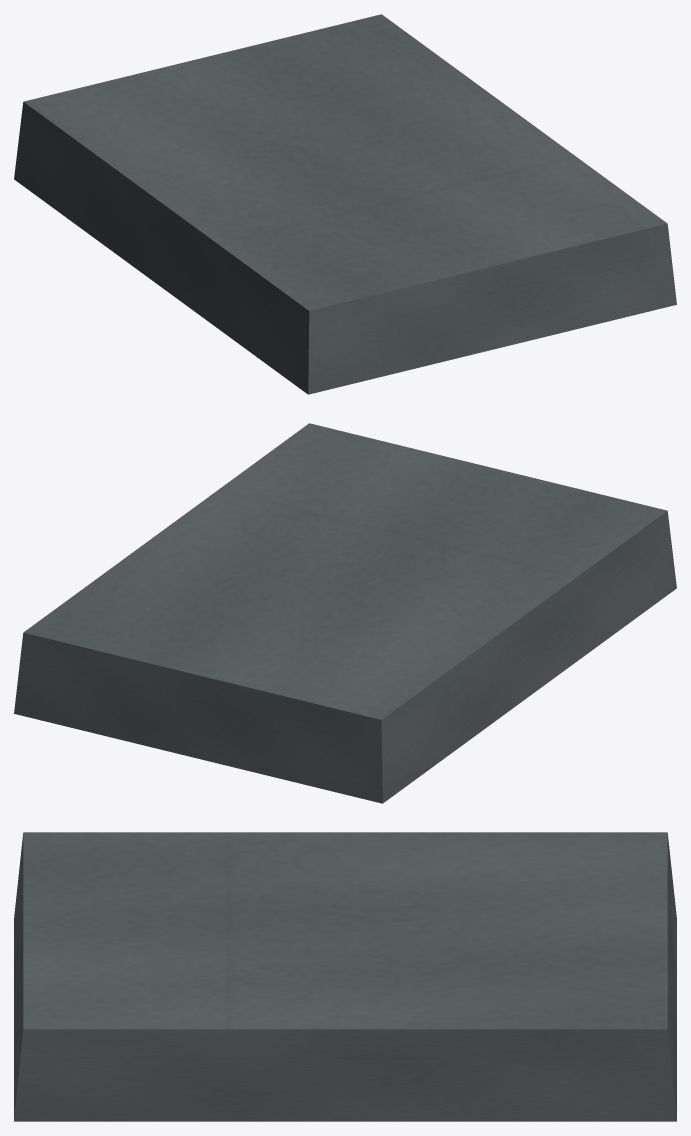
Rendered from slate_tile.glb.
The picture shows the model from 3 angles, top to bottom: view 1: azimuth 30°, elevation 25°; view 2: azimuth 150°, elevation 25°; view 3: azimuth 270°, elevation 25°; orthographic projection. The views are drawn at different scales.
Parts seen in each view (by area): view 1: slate_tile; view 2: slate_tile; view 3: slate_tile.
Part boxes in pixels (bbox=[...]): slate_tile: bbox=[14, 14, 676, 394]; slate_tile: bbox=[14, 423, 676, 803]; slate_tile: bbox=[14, 832, 676, 1121].
Bounding box in the file's own units: 0.34 × 0.07 × 0.47.
1 material, 1 textured.
